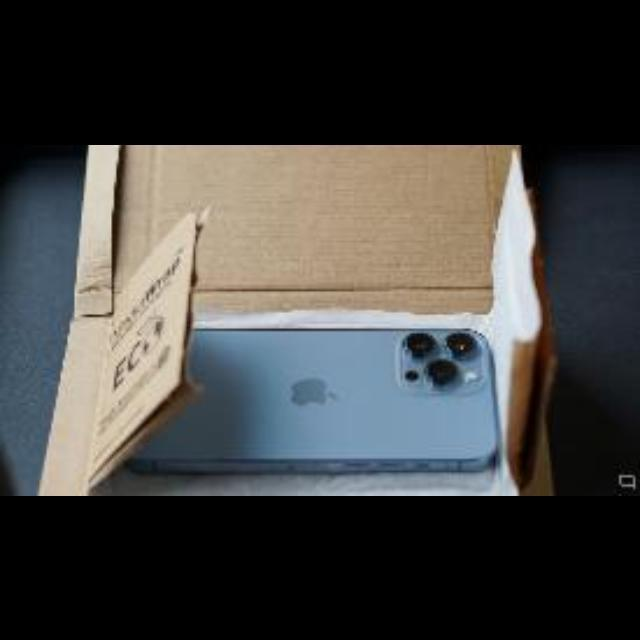phone: (97, 301, 507, 491)
